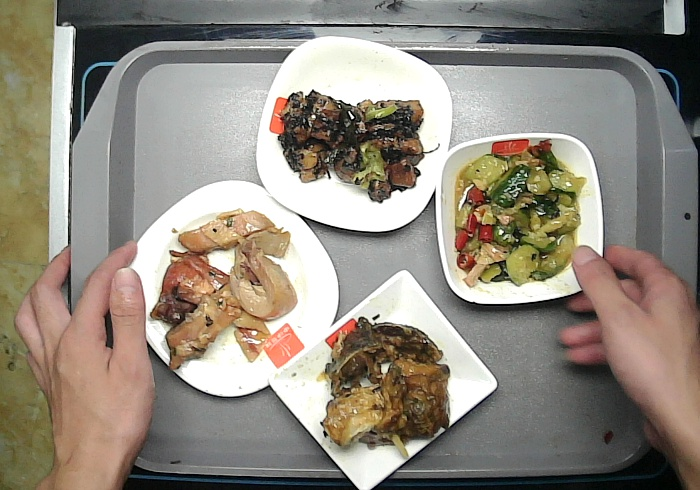SHKJ-Bai_Se_Cai_Die: (257, 36, 452, 233)
SHKJ-Bai_Se_Si_Fang_Cai_Die: (118, 179, 340, 397)
SHKJ-Bai_Se_Xiao_Fang_Die: (435, 133, 605, 307)
SHKJ-Si_Fang_Min: (269, 269, 498, 490)
